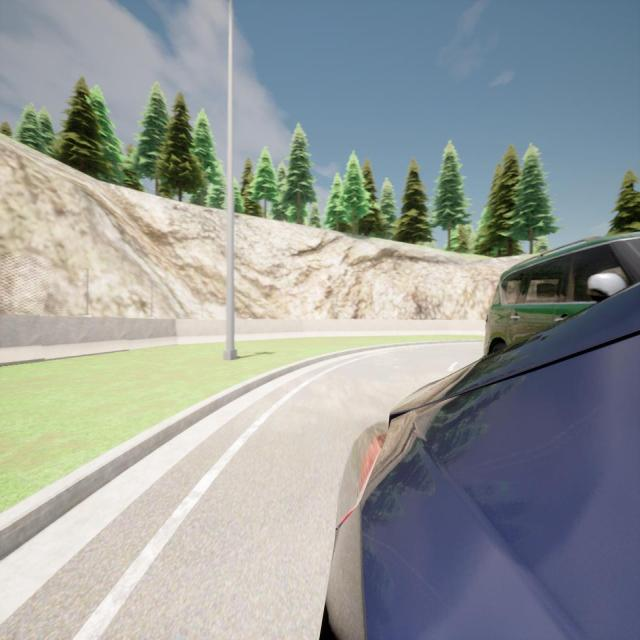Vehicle: (328, 289, 640, 637), (482, 232, 640, 357)
